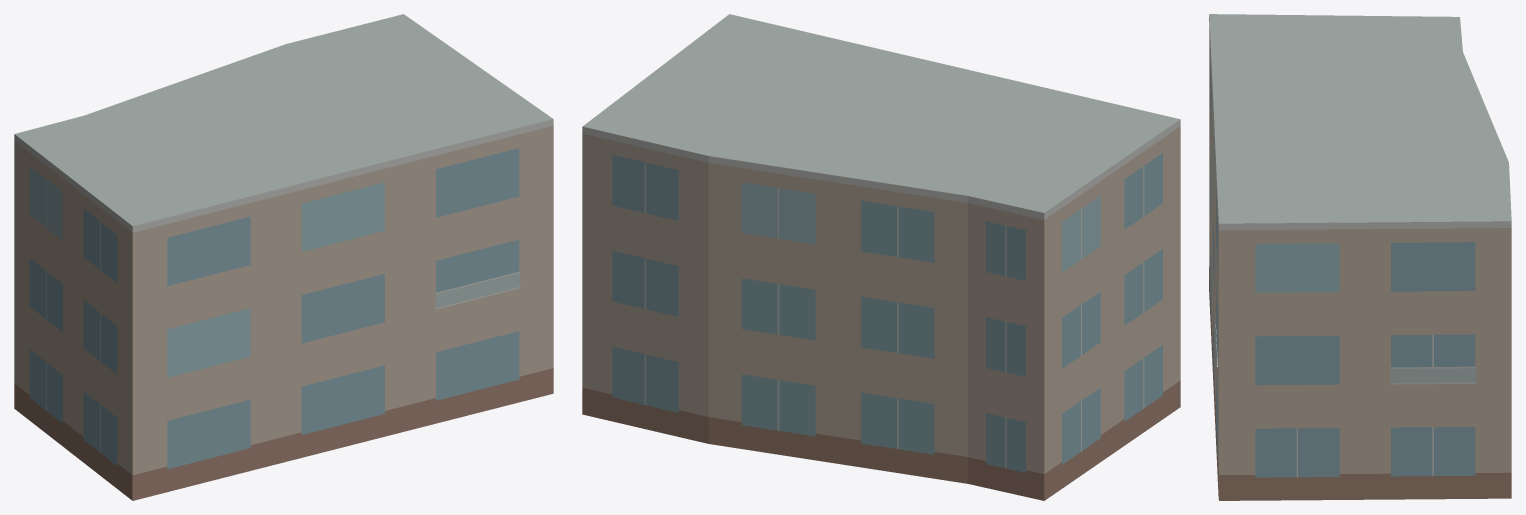
Rendered from survey-upis-32971279.glb.
3 views of the same model, side by side, from view 1: azimuth 30°, elevation 25°; view 2: azimuth 150°, elevation 25°; view 3: azimuth 270°, elevation 25° (orthographic). The views are drawn at different scales.
Parts seen in each view (by area): view 1: survey-upis-32971279.tmp; view 2: survey-upis-32971279.tmp; view 3: survey-upis-32971279.tmp.
Boxes of the visible parts, x1,y1,x2,y2 form: survey-upis-32971279.tmp: [14, 14, 553, 500]; survey-upis-32971279.tmp: [582, 14, 1180, 500]; survey-upis-32971279.tmp: [1209, 14, 1511, 500].
Bounding box in the file's own units: 16.39 × 10.1 × 10.
